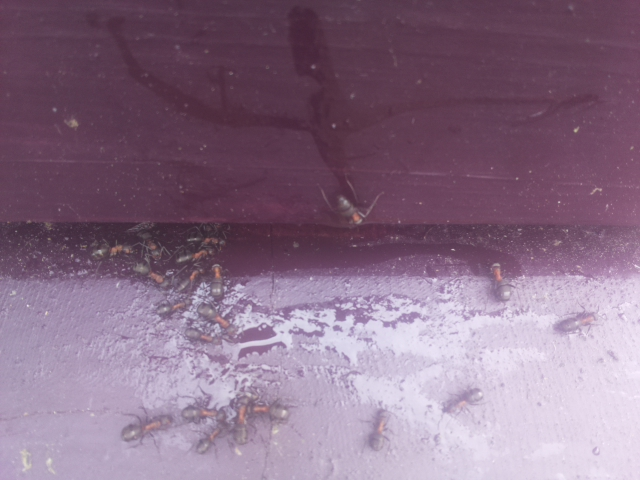ant: (112, 410, 181, 448), (324, 184, 371, 235), (190, 297, 240, 337), (120, 259, 177, 291), (439, 380, 483, 419), (484, 257, 517, 308), (365, 405, 396, 456), (196, 417, 227, 458), (84, 240, 141, 260), (232, 398, 252, 445), (178, 407, 230, 423), (207, 264, 227, 300), (154, 299, 189, 318)
